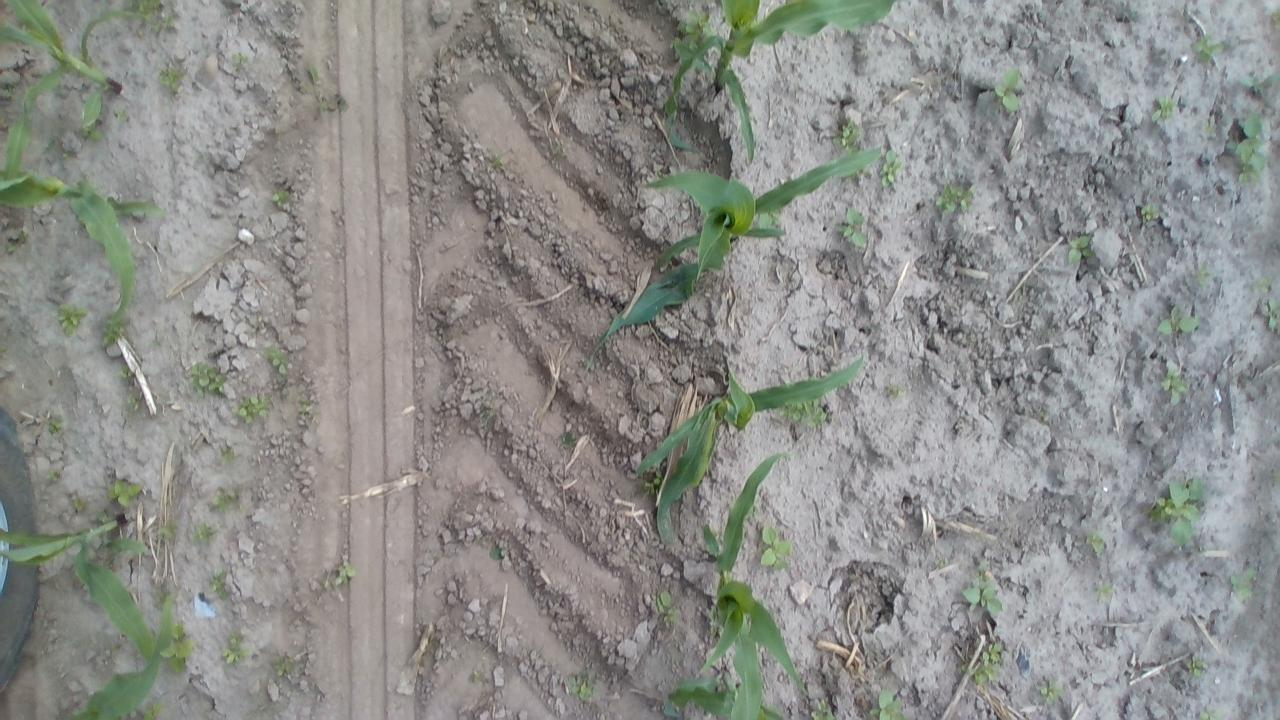Maize: (582, 148, 884, 369), (635, 354, 862, 549), (662, 0, 895, 160), (692, 449, 813, 720), (0, 1, 145, 188), (0, 162, 161, 320), (0, 520, 153, 672), (58, 593, 174, 720), (658, 666, 788, 720)
Weeds: (1150, 476, 1202, 548), (1233, 113, 1268, 184), (961, 574, 1006, 614), (678, 9, 717, 50), (125, 0, 176, 31), (759, 526, 793, 572), (990, 67, 1020, 112), (969, 641, 1001, 683), (779, 398, 827, 426), (188, 363, 228, 396), (1156, 305, 1199, 335), (160, 622, 194, 659), (837, 207, 867, 248), (935, 182, 976, 212), (56, 301, 90, 336), (232, 391, 269, 422), (870, 690, 906, 720), (1192, 32, 1224, 64), (1162, 368, 1189, 404), (222, 632, 252, 664), (831, 121, 860, 154), (100, 310, 126, 346), (1239, 71, 1280, 93), (108, 478, 142, 503), (879, 151, 902, 186), (158, 64, 184, 94), (264, 344, 290, 374), (1232, 566, 1254, 600), (1069, 234, 1093, 264), (570, 671, 594, 700), (641, 469, 666, 496), (211, 489, 238, 512), (1151, 96, 1175, 121), (1040, 680, 1065, 704), (302, 61, 321, 92), (971, 558, 990, 587), (335, 560, 356, 586), (209, 568, 227, 598), (756, 207, 781, 228), (190, 521, 215, 542), (80, 121, 106, 140), (810, 700, 834, 720), (1085, 530, 1104, 554), (1140, 202, 1162, 222), (156, 520, 178, 540), (1184, 655, 1204, 676), (142, 703, 166, 720), (229, 50, 249, 70), (651, 591, 670, 612), (1268, 296, 1280, 329), (274, 655, 294, 674), (1096, 583, 1114, 603), (319, 98, 346, 111), (272, 187, 290, 206), (1200, 705, 1222, 720), (663, 610, 682, 627), (220, 446, 236, 466), (1198, 263, 1210, 288), (0, 76, 12, 100), (1252, 278, 1272, 292), (46, 417, 62, 434), (493, 152, 508, 170), (888, 384, 906, 399), (153, 592, 168, 610), (488, 546, 507, 560), (298, 403, 312, 422), (90, 509, 110, 522), (126, 394, 140, 411), (114, 109, 130, 123), (1272, 4, 1280, 30), (120, 366, 134, 380), (560, 435, 574, 448), (72, 498, 84, 513), (748, 505, 761, 518), (1038, 408, 1050, 422), (44, 470, 58, 482), (934, 556, 948, 567), (1204, 122, 1214, 137), (855, 167, 870, 176), (5, 241, 16, 253)
